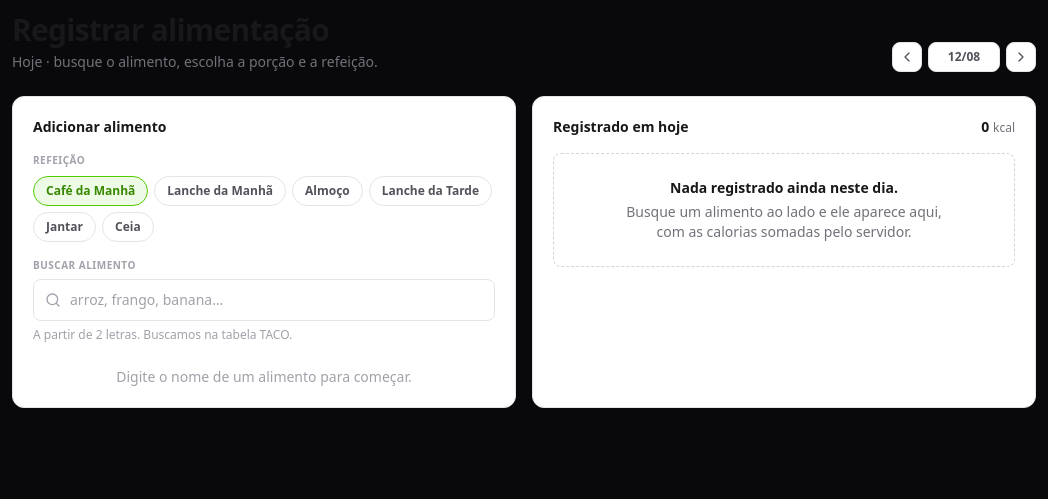
Test case: DiaryLog — quantidade inicial da porção › alimento medido em UNIDADE não pode abrir o formulário com 100
In the search field labelled "Buscar alimento": coordinates (264, 300) [33,279,495,321], type "ovo"
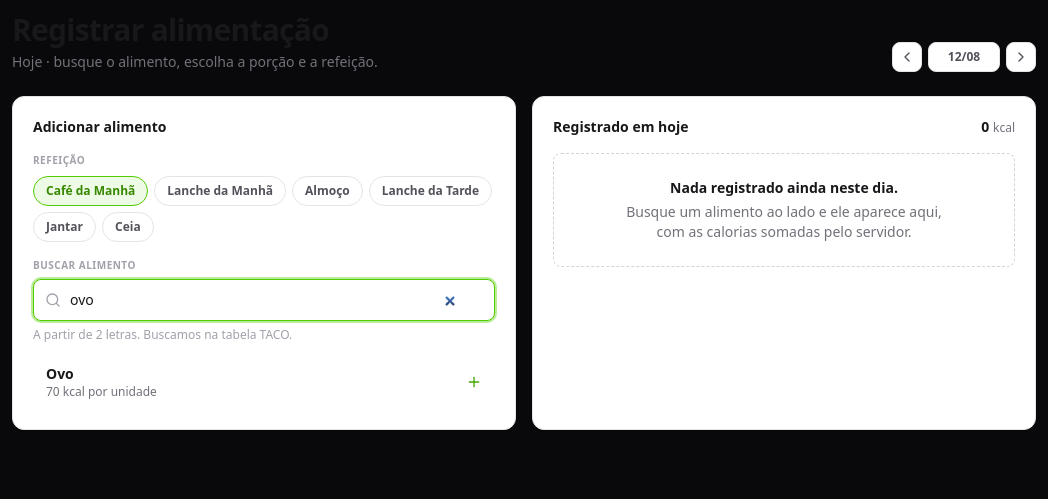
Click the button "Ovo 70 kcal por unidade": coordinates (101, 392) [33,355,495,409]
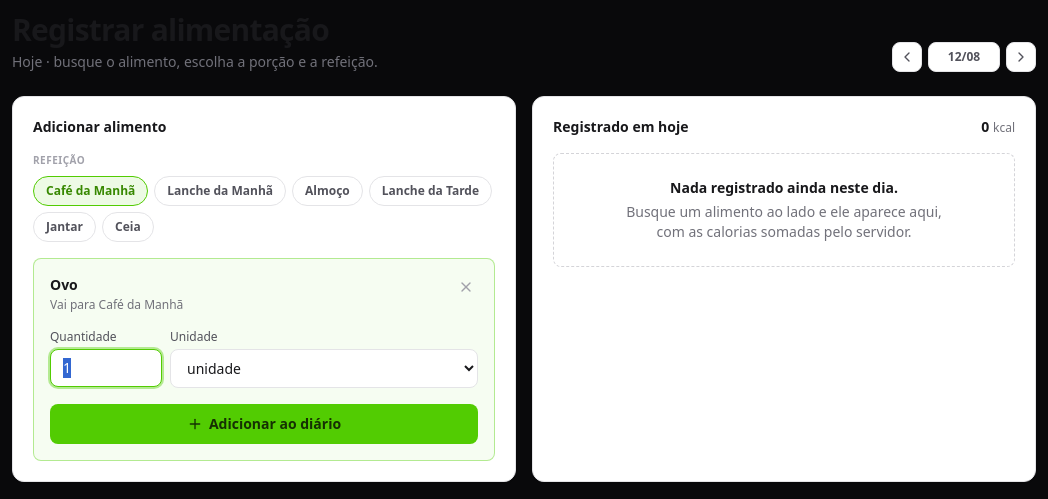
Expected: the dropdown labelled "Unidade" shows "unidade", [170,349,478,388]
Expected: the field labelled "Quantidade" does not hold "100", [50,349,162,387]
